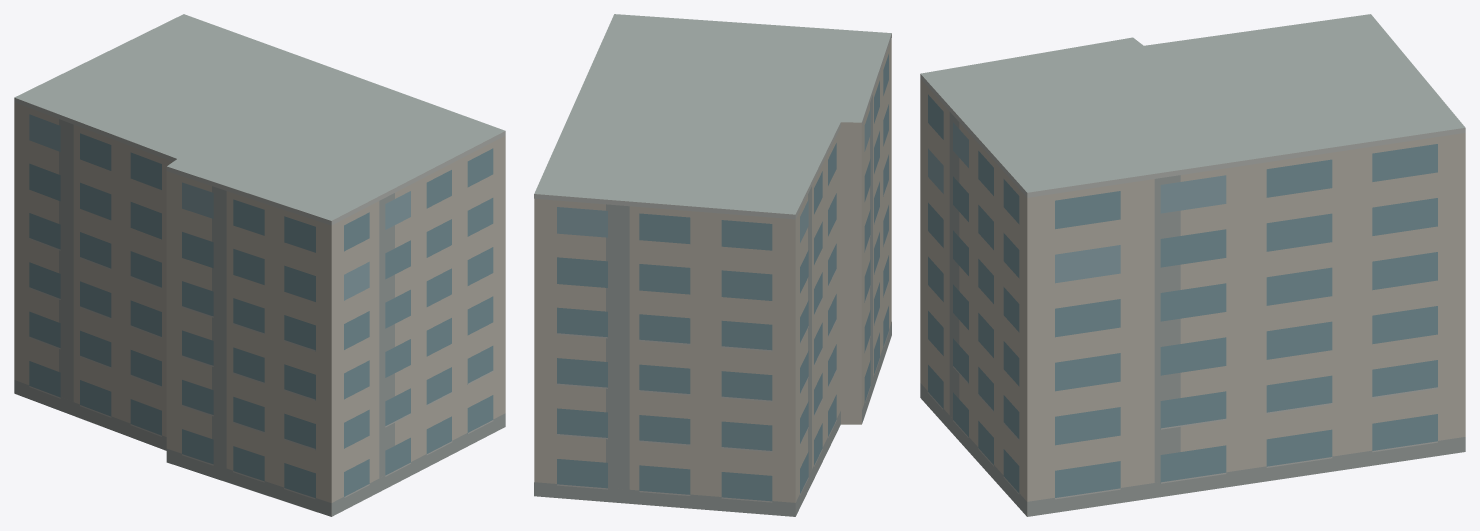
Rendered from survey-upis-32863665.glb.
3 renders of one model, left to right at view 1: azimuth 30°, elevation 25°; view 2: azimuth 150°, elevation 25°; view 3: azimuth 270°, elevation 25°, orthographic. The views are drawn at different scales.
Visible parts, largest first — view 1: survey-upis-32863665.tmp; view 2: survey-upis-32863665.tmp; view 3: survey-upis-32863665.tmp.
Part boxes in pixels (left/top/right/bottom): survey-upis-32863665.tmp: left=14, top=14, right=505, bottom=516; survey-upis-32863665.tmp: left=534, top=14, right=891, bottom=516; survey-upis-32863665.tmp: left=920, top=14, right=1465, bottom=516.
Bounding box in the file's own units: 18.34 × 15.5 × 23.64.
